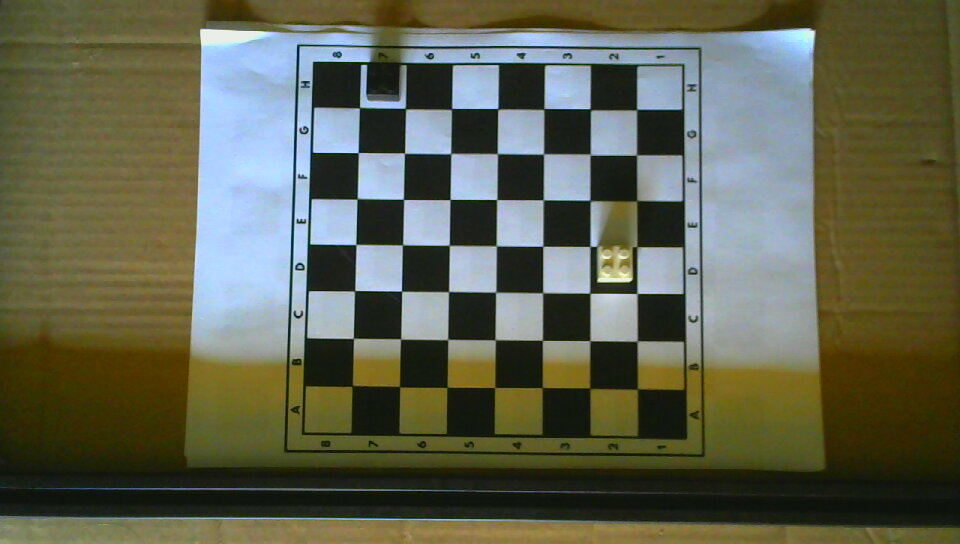bp: (364, 60, 400, 101)
wp: (595, 244, 634, 283)
